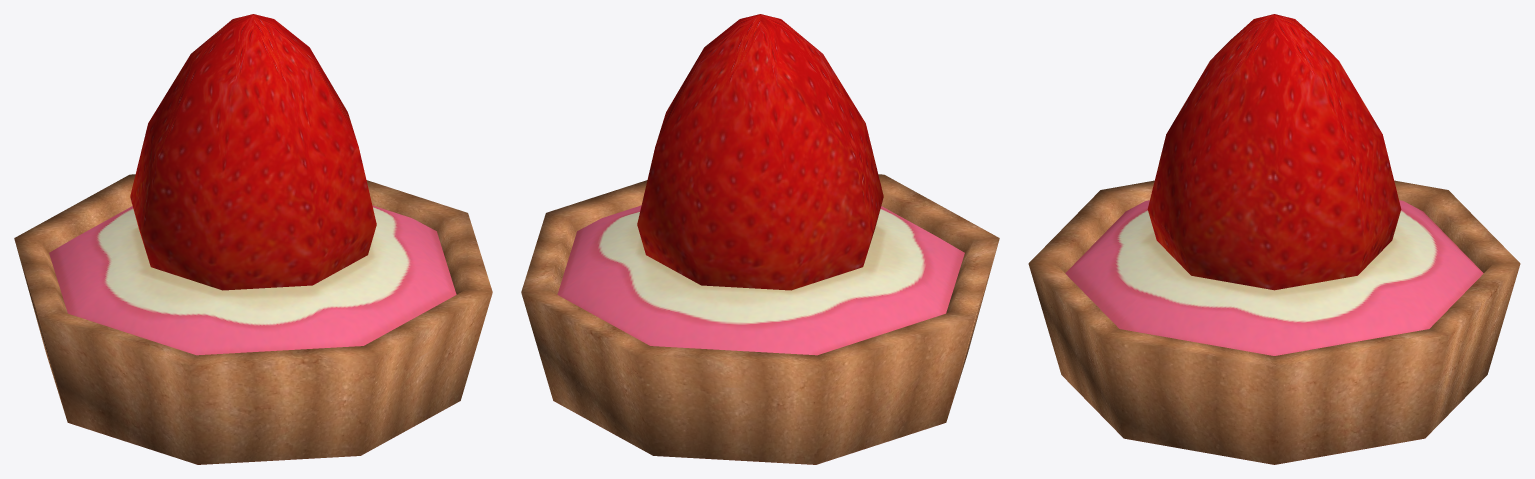
Rendered from Tart.fbx.
The picture shows the model from 3 angles, left to right: view 1: azimuth 30°, elevation 25°; view 2: azimuth 150°, elevation 25°; view 3: azimuth 270°, elevation 25°; orthographic projection.
Parts seen in each view (by area): view 1: Empty_Mesh; view 2: Empty_Mesh; view 3: Empty_Mesh.
Part boxes in pixels (x1,y1,x2,y2): Empty_Mesh: (14, 14, 492, 464); Empty_Mesh: (521, 14, 999, 464); Empty_Mesh: (1028, 14, 1520, 464).
Size of the model in its own units: 0.5 by 0.4032 by 0.5.
